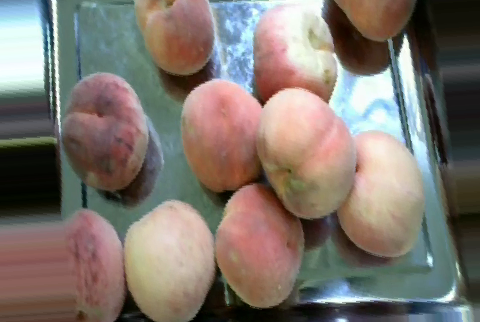Peach: (258, 88, 351, 218), (337, 127, 424, 259), (123, 200, 217, 319), (213, 183, 302, 307), (59, 71, 148, 192), (180, 80, 271, 193), (251, 3, 335, 109), (133, 0, 216, 74)
